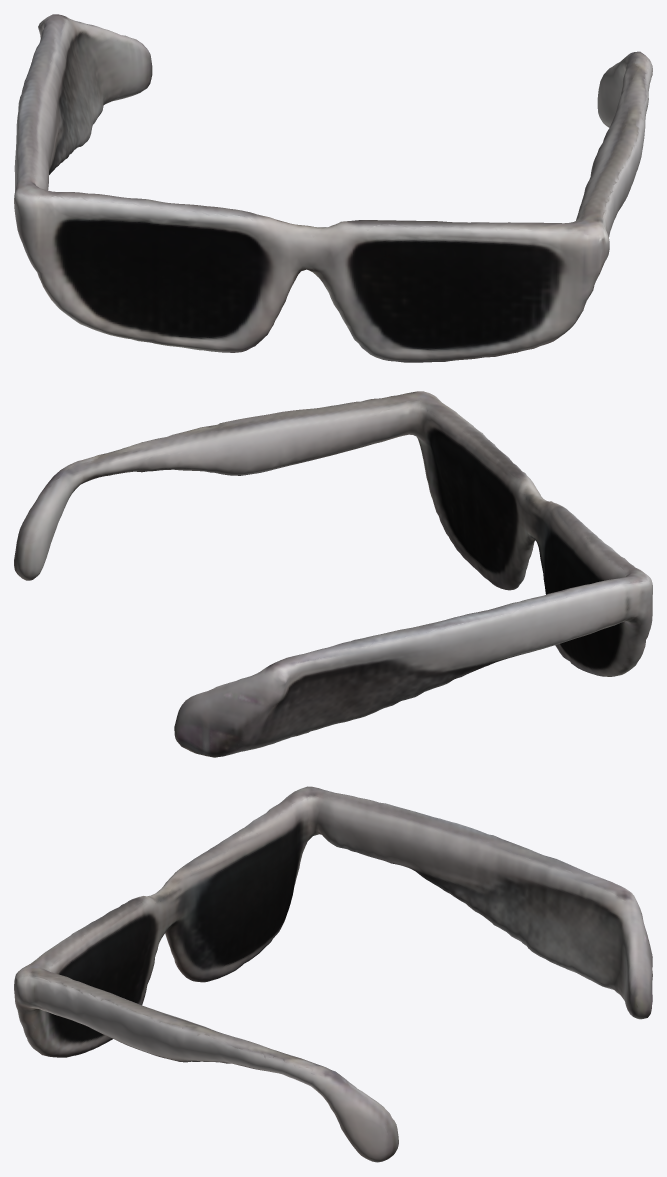
The model's file is gafasx1.glb.
The picture shows the model from 3 angles, top to bottom: view 1: azimuth 30°, elevation 25°; view 2: azimuth 150°, elevation 25°; view 3: azimuth 270°, elevation 25°; orthographic projection. The views are drawn at different scales.
Parts seen in each view (by area): view 1: mesh; view 2: mesh; view 3: mesh.
Boxes of the visible parts, x1,y1,x2,y2 form: mesh: (14,14,652,362); mesh: (14,391,652,757); mesh: (14,786,652,1162).
Size of the model in its own units: 1.95 by 0.4564 by 1.92.
1 material, 1 textured.
